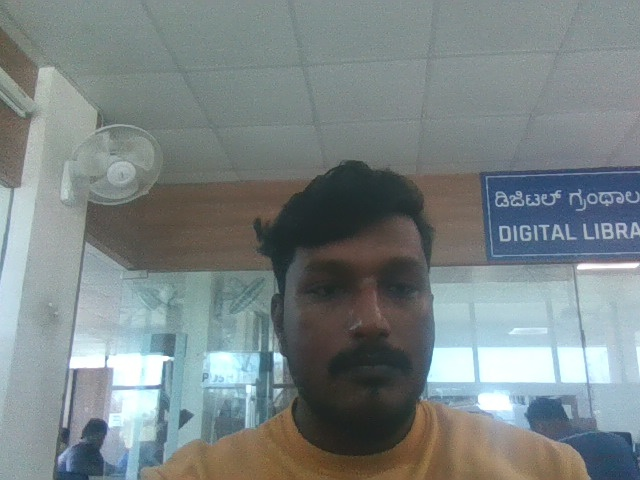real: (258, 146, 460, 433)
